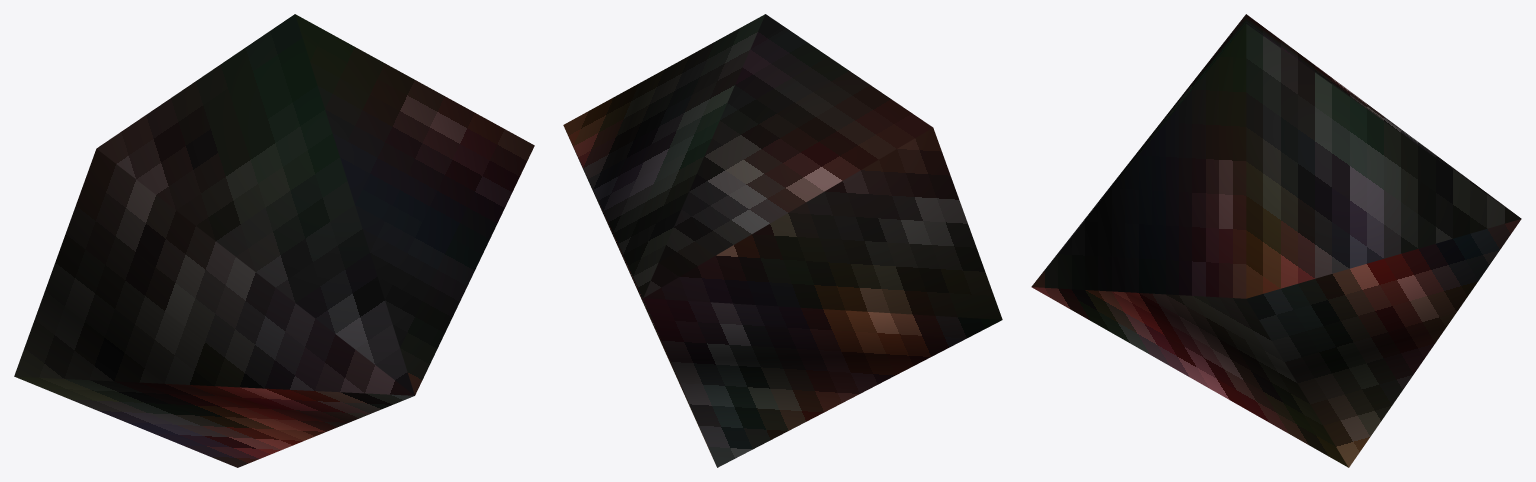
File: Stone01.glb
3 renders of one model, left to right at view 1: azimuth 30°, elevation 25°; view 2: azimuth 150°, elevation 25°; view 3: azimuth 270°, elevation 25°, orthographic. The views are drawn at different scales.
Visible parts, largest first — view 1: model_Stone01; view 2: model_Stone01; view 3: model_Stone01.
Part boxes in pixels (x1,y1,x2,y2): model_Stone01: [14, 14, 534, 467]; model_Stone01: [563, 14, 1002, 467]; model_Stone01: [1031, 14, 1521, 467].
Size of the model in its own units: 0.1258 by 0.1144 by 0.1145.
1 material, 1 textured.
